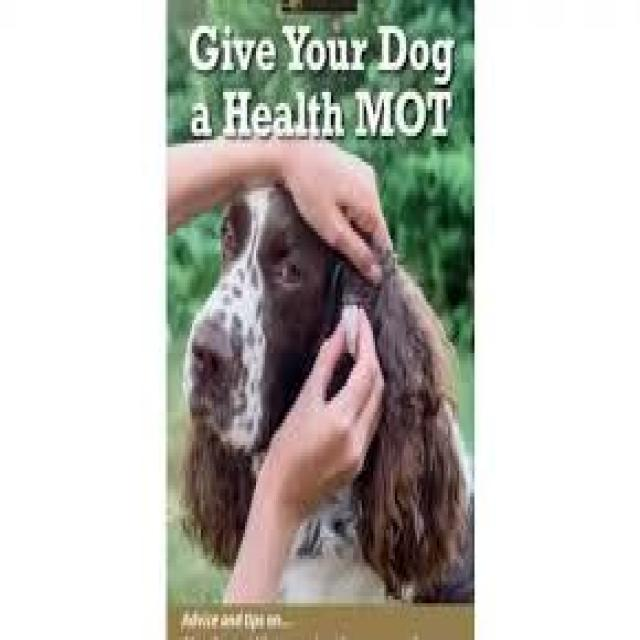Dog: (168, 166, 475, 617)
